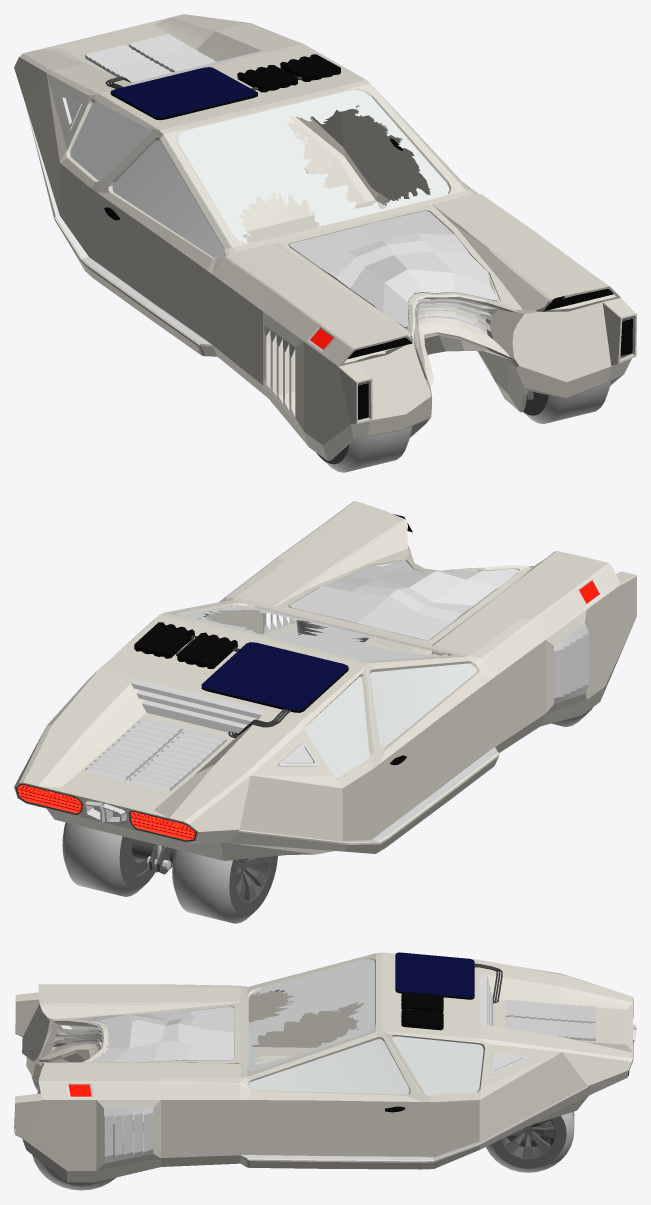
Rendered from CarCrash.fbx.
3 views of the same model, one above another, from view 1: azimuth 30°, elevation 25°; view 2: azimuth 150°, elevation 25°; view 3: azimuth 270°, elevation 25° (orthographic). The views are drawn at different scales.
Visible parts, largest first — view 1: Carro.001, windows.001, windows, Cube.001, RodasTraseiras, lights; view 2: Carro.001, RodasTraseiras, Cube.001, windows, windows.001, lights; view 3: Carro.001, windows, windows.001, Cube.001, RodasTraseiras, lights.
Boxes of the visible parts, x1=… form: Carro.001: x1=14, y1=14, x2=636, y2=460; windows.001: x1=177, y1=90, x2=449, y2=242; windows: x1=70, y1=101, x2=472, y2=258; Cube.001: x1=105, y1=54, x2=340, y2=120; RodasTraseiras: x1=316, y1=304, x2=611, y2=472; lights: x1=310, y1=289, x2=632, y2=419; Carro.001: x1=14, y1=501, x2=636, y2=860; RodasTraseiras: x1=62, y1=620, x2=593, y2=923; Cube.001: x1=134, y1=622, x2=348, y2=737; windows: x1=198, y1=611, x2=476, y2=778; windows.001: x1=178, y1=605, x2=447, y2=660; lights: x1=15, y1=514, x2=599, y2=841; Carro.001: x1=14, y1=952, x2=636, y2=1182; windows: x1=248, y1=989, x2=483, y2=1094; windows.001: x1=248, y1=959, x2=375, y2=1070; Cube.001: x1=395, y1=952, x2=502, y2=1030; RodasTraseiras: x1=31, y1=1076, x2=574, y2=1190; lights: x1=42, y1=998, x2=633, y2=1096.
Bounding box in the file's own units: 687 × 432 × 1563.
